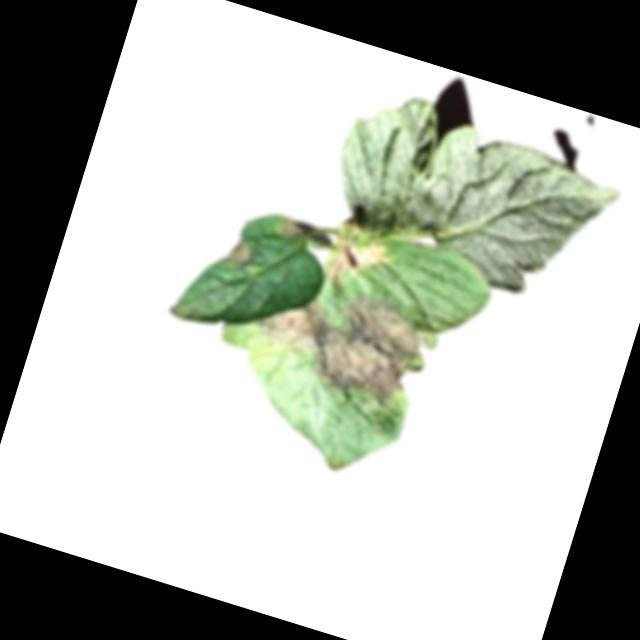Late_blight: (239, 265, 447, 417), (323, 231, 393, 300), (217, 235, 259, 276), (277, 216, 308, 243)
healthy: (314, 81, 631, 316)
